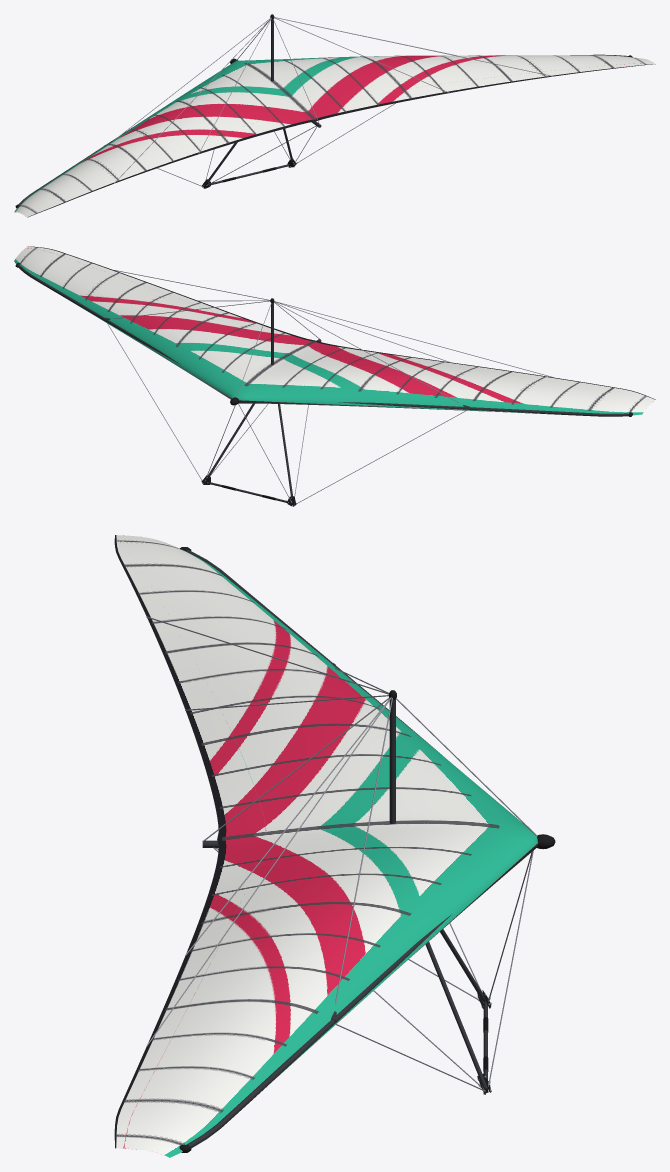
The model's file is glider_bautek_kite.glb.
3 views of the same model, one above another, from view 1: azimuth 30°, elevation 25°; view 2: azimuth 150°, elevation 25°; view 3: azimuth 270°, elevation 25° (orthographic). The views are drawn at different scales.
Visible parts, largest first — view 1: Sail, Frame, ControlFrame; view 2: Sail, Frame, ControlFrame; view 3: Sail, Frame, ControlFrame.
Part boxes in pixels (x1,y1,x2,y2): Sail: (14, 55, 655, 217); Frame: (15, 14, 632, 208); ControlFrame: (157, 103, 395, 188); Sail: (14, 246, 655, 415); Frame: (15, 263, 632, 416); ControlFrame: (107, 323, 466, 506); Sail: (114, 535, 537, 1157); Frame: (146, 547, 555, 1152); ControlFrame: (213, 847, 533, 1094).
Size of the model in its own units: 10.15 by 2.79 by 3.08.
8 materials, 1 textured.
